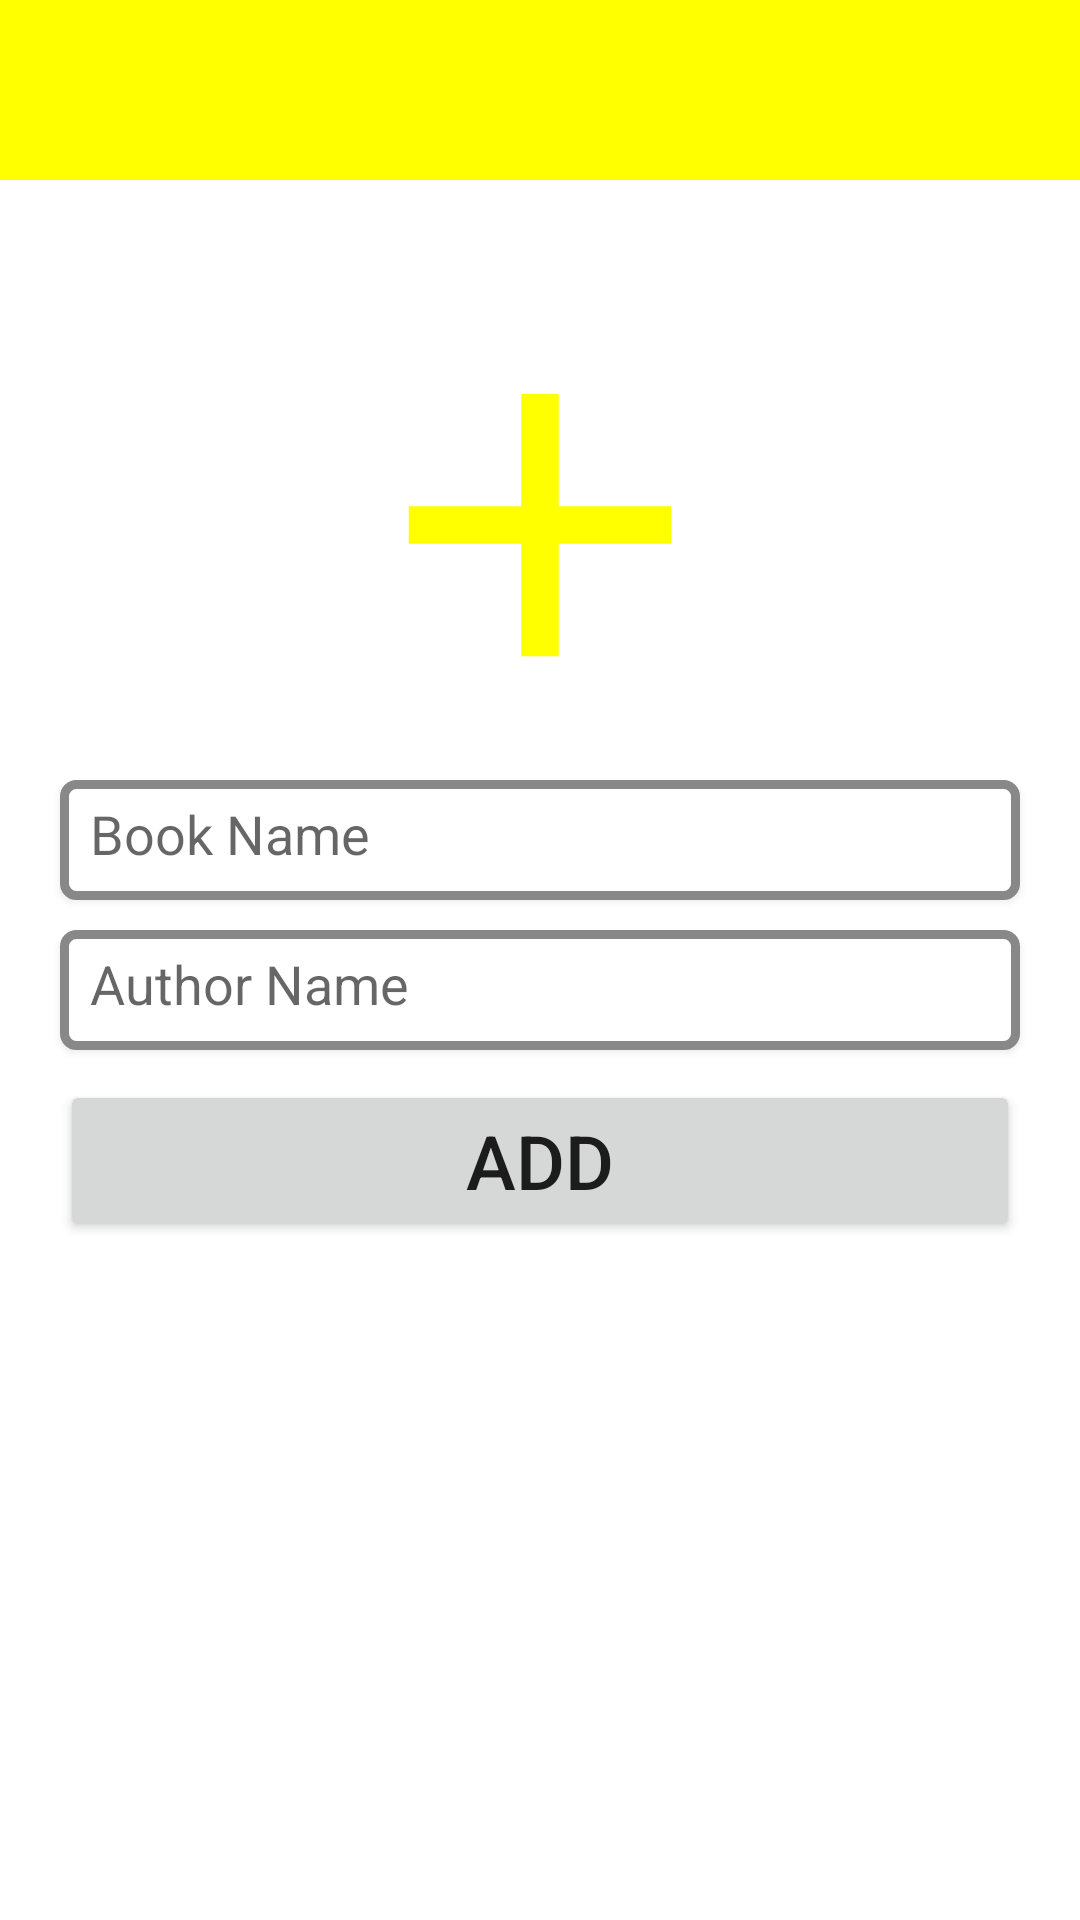

Screen size 1080px×1920px. Icon name, then its center in pixels as [x,y]:
add: [540,525]
